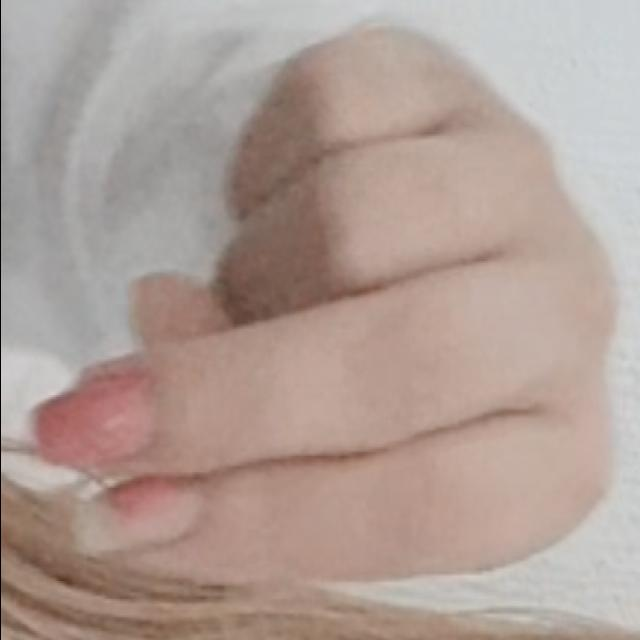N: (18, 10, 622, 598)
